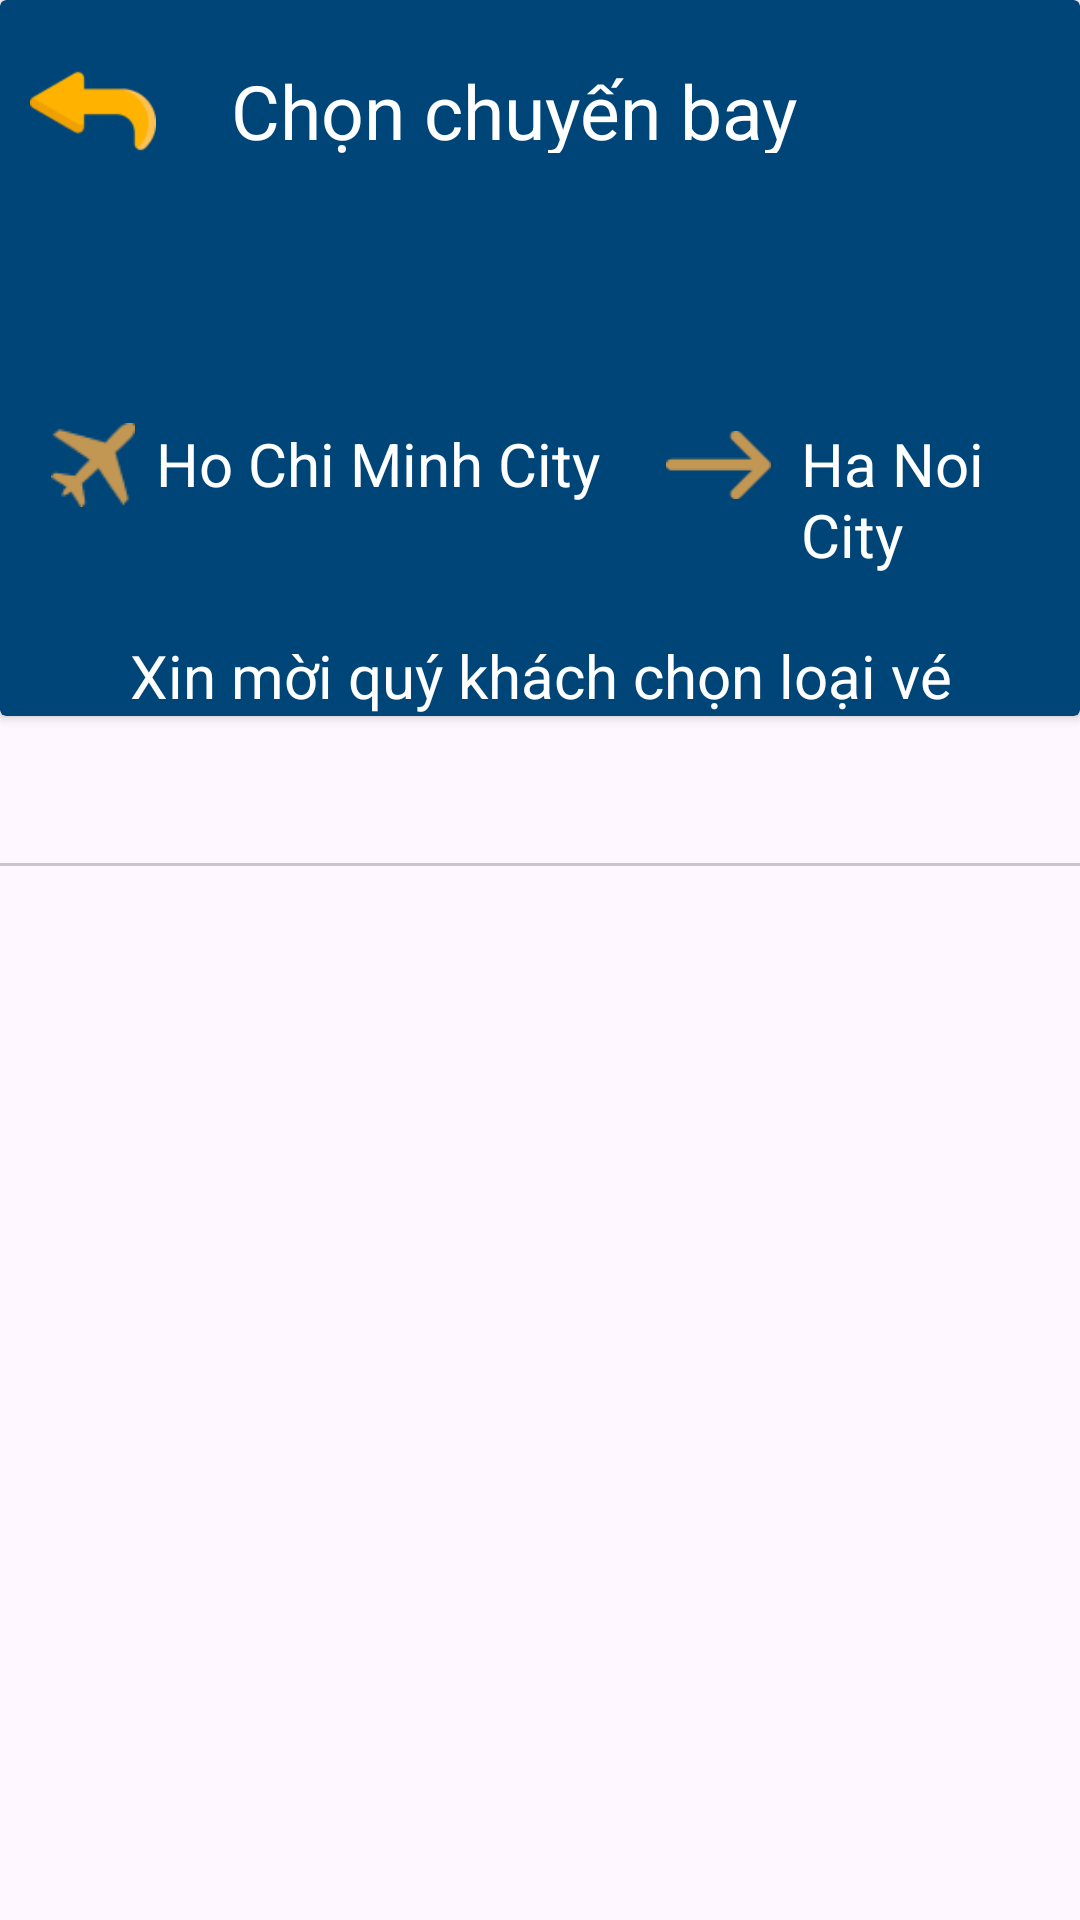

Icons on this 1080w x 1920h Android screen, each with the point to tap as (x=x, y=y):
backve: (x=93, y=111)
imgfly: (x=93, y=465)
imgmuitensangphai: (x=718, y=465)
